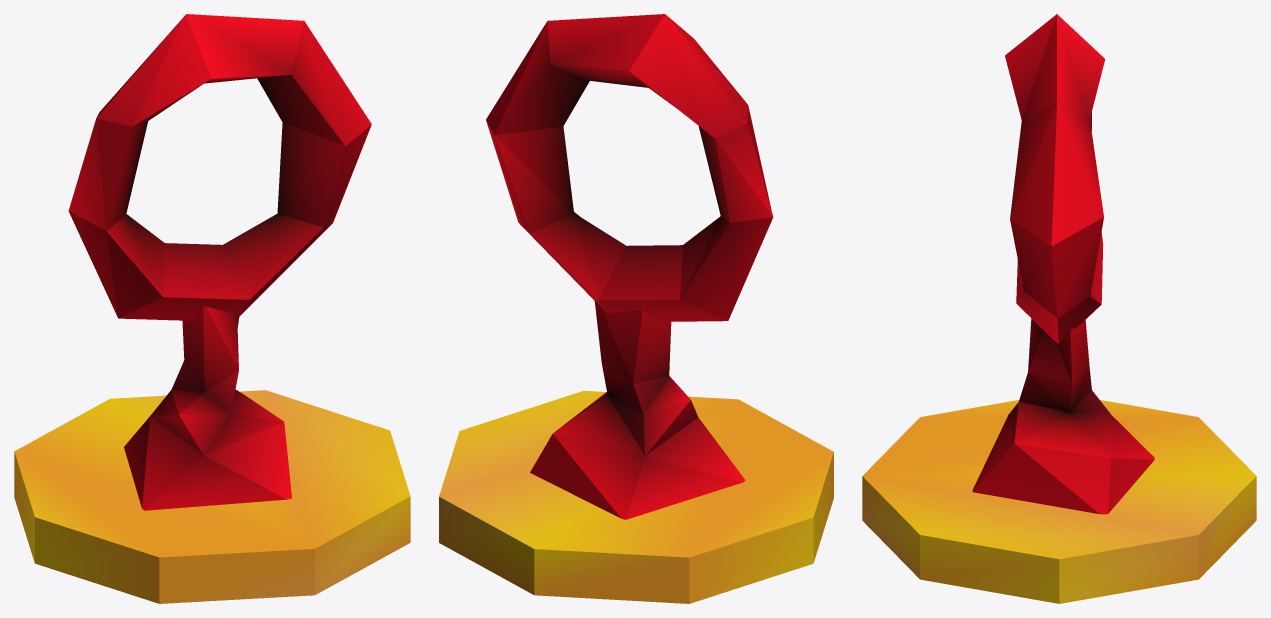
File: red_key_2.dae
The picture shows the model from 3 angles, left to right: view 1: azimuth 30°, elevation 25°; view 2: azimuth 150°, elevation 25°; view 3: azimuth 270°, elevation 25°; orthographic projection. The views are drawn at different scales.
Visible parts, largest first — view 1: Cube.002, Cube; view 2: Cube.002, Cube; view 3: Cube, Cube.002.
Part boxes in pixels (<box>): Cube.002: <box>68,14,371,510</box>; Cube: <box>14,390,410,603</box>; Cube.002: <box>486,14,773,519</box>; Cube: <box>439,390,833,603</box>; Cube: <box>862,400,1256,603</box>; Cube.002: <box>972,14,1154,514</box>.
Size of the model in its own units: 0.5966 by 0.5966 by 0.8248.
